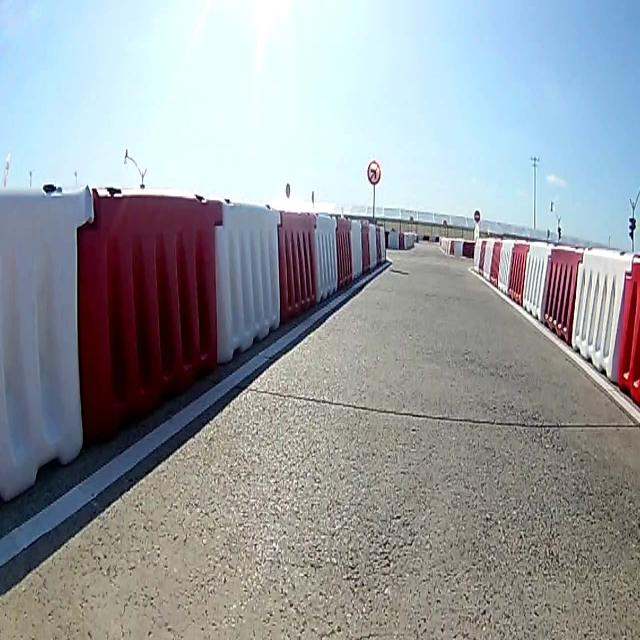soladonulmez: (365, 159, 383, 185)
